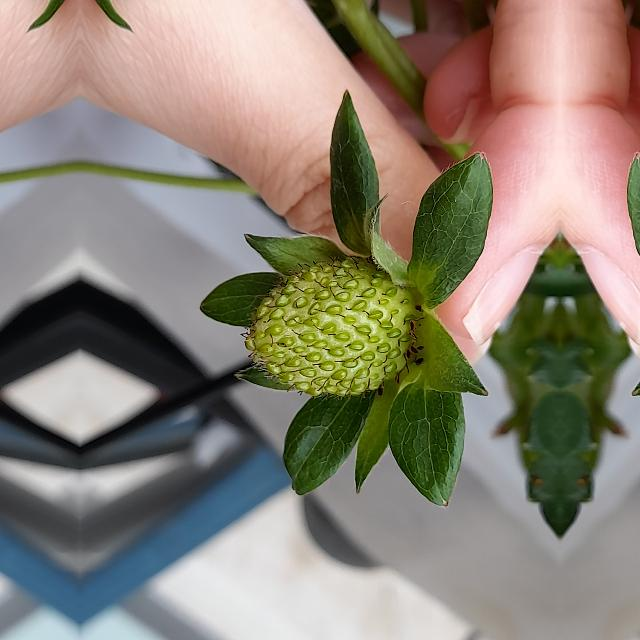Health_25: (240, 255, 418, 400)
